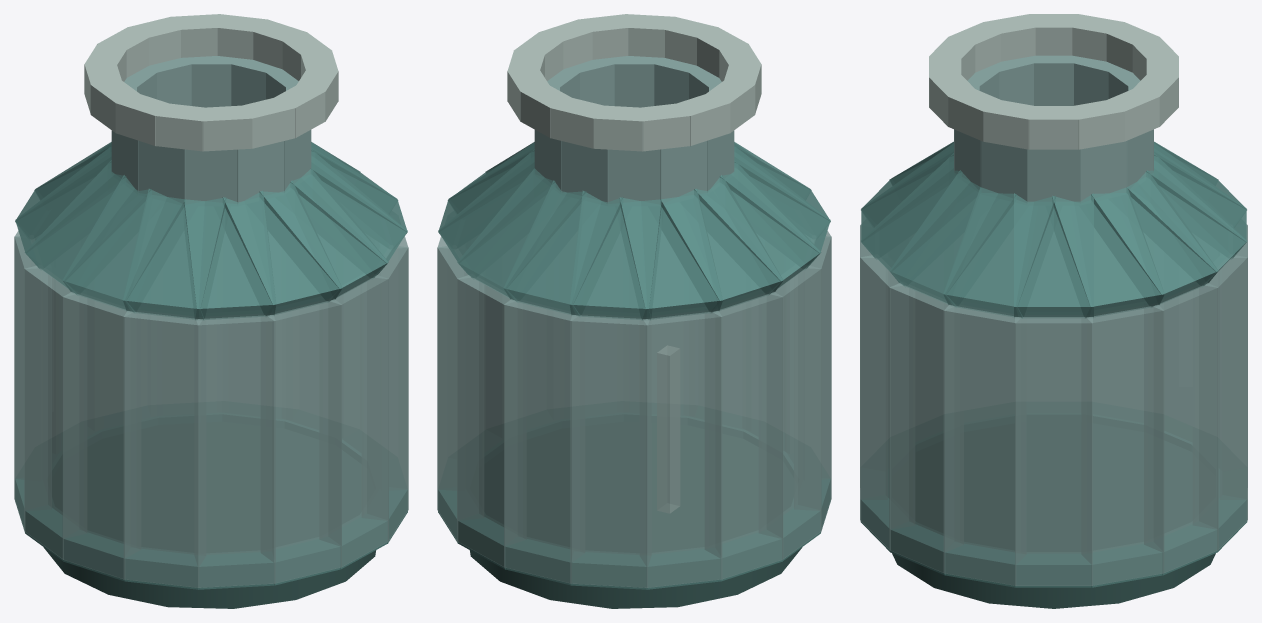
Rendered from CMU3DBottleEmptyCloud.glb.
The picture shows the model from 3 angles, left to right: view 1: azimuth 30°, elevation 25°; view 2: azimuth 150°, elevation 25°; view 3: azimuth 270°, elevation 25°; orthographic projection.
Parts seen in each view (by area): view 1: thick circular glass heel, hollow bottle wall 11, hollow bottle wall 12, hollow bottle wall 13, hollow bottle wall 10, hollow bottle wall 14, hollow bottle wall 09, hollow bottle wall 15, inward glass shoulder 11, inward glass shoulder 13, inward glass shoulder 12, hollow bottle wall 08 (+48 smaller); view 2: thick circular glass heel, hollow bottle wall 07, hollow bottle wall 06, hollow bottle wall 05, hollow bottle wall 08, hollow bottle wall 04, hollow bottle wall 09, hollow bottle wall 03, inward glass shoulder 07, inward glass shoulder 05, inward glass shoulder 06, hollow bottle wall 10 (+49 smaller); view 3: thick circular glass heel, hollow bottle wall 02, hollow bottle wall 16, hollow bottle wall 01, hollow bottle wall 03, hollow bottle wall 15, hollow bottle wall 04, hollow bottle wall 14, inward glass shoulder 02, inward glass shoulder 16, inward glass shoulder 01, inward glass shoulder 03 (+47 smaller).
Boxes of the visible parts, box(x1,y1,x2,y2) form: thick circular glass heel: box(43, 422, 376, 608); hollow bottle wall 11: box(123, 310, 205, 587); hollow bottle wall 12: box(194, 314, 275, 587); hollow bottle wall 13: box(261, 299, 341, 583); hollow bottle wall 10: box(62, 292, 140, 579); hollow bottle wall 14: box(319, 275, 388, 567); hollow bottle wall 09: box(24, 265, 86, 559); hollow bottle wall 15: box(362, 246, 408, 541); inward glass shoulder 11: box(123, 188, 226, 320); inward glass shoulder 13: box(222, 180, 342, 316); inward glass shoulder 12: box(184, 190, 276, 320); hollow bottle wall 08: box(14, 236, 51, 531); thick circular glass heel: box(469, 422, 802, 608); hollow bottle wall 07: box(640, 310, 722, 587); hollow bottle wall 06: box(570, 314, 651, 587); hollow bottle wall 05: box(504, 299, 584, 583); hollow bottle wall 08: box(705, 292, 783, 579); hollow bottle wall 04: box(457, 275, 526, 567); hollow bottle wall 09: box(759, 265, 821, 559); hollow bottle wall 03: box(437, 246, 483, 541); inward glass shoulder 07: box(619, 188, 722, 320); inward glass shoulder 05: box(503, 180, 623, 316); inward glass shoulder 06: box(569, 190, 661, 320); hollow bottle wall 10: box(794, 236, 831, 531); thick circular glass heel: box(892, 422, 1215, 608); hollow bottle wall 02: box(1081, 305, 1164, 585); hollow bottle wall 16: box(943, 305, 1026, 585); hollow bottle wall 01: box(1015, 315, 1092, 585); hollow bottle wall 03: box(1144, 283, 1218, 573); hollow bottle wall 15: box(889, 283, 963, 573); hollow bottle wall 04: box(1193, 255, 1247, 550); hollow bottle wall 14: box(860, 255, 914, 550); inward glass shoulder 02: box(1052, 187, 1164, 318); inward glass shoulder 16: box(943, 187, 1055, 318); inward glass shoulder 01: box(1014, 193, 1093, 317); inward glass shoulder 03: box(1091, 170, 1218, 307).
Bounding box in the file's own units: 0.3384 × 0.453 × 0.3384.
